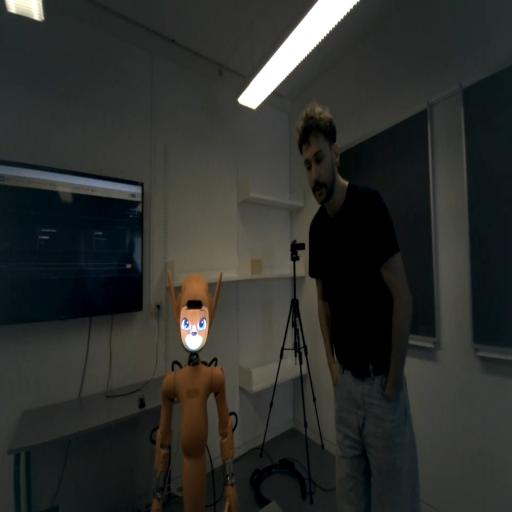Robot: (166, 268, 224, 358)
TV: (0, 174, 145, 320)
